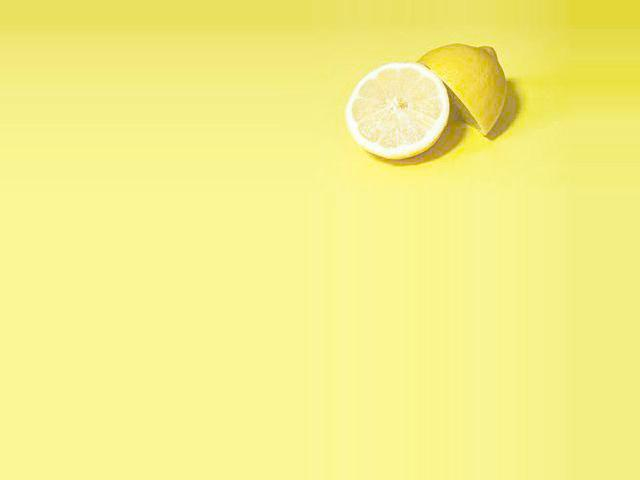lemon: (412, 37, 505, 150)
